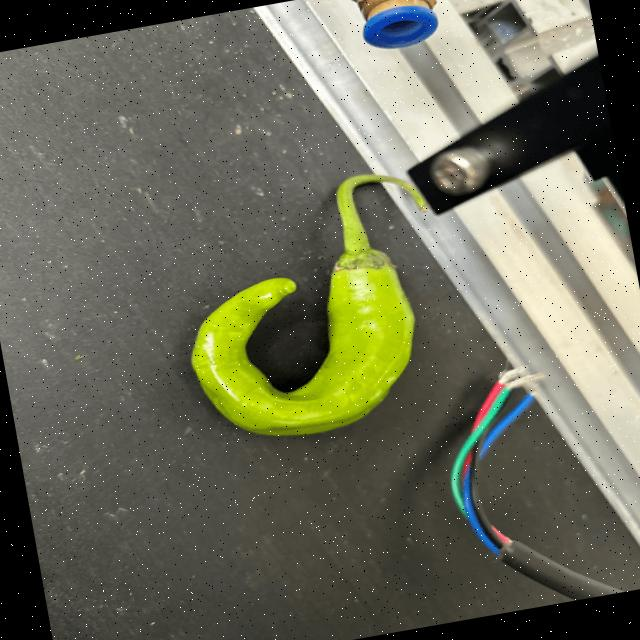chili: (188, 246, 416, 437)
